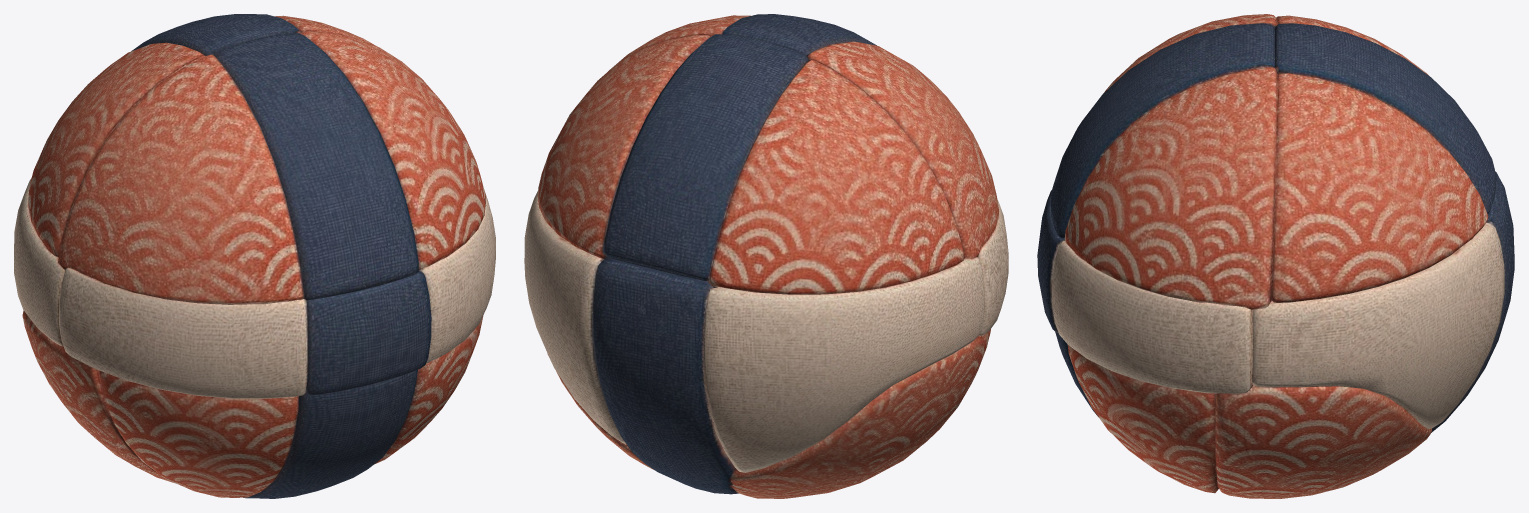
The model's file is ClothBall.fbx.
The picture shows the model from 3 angles, left to right: view 1: azimuth 30°, elevation 25°; view 2: azimuth 150°, elevation 25°; view 3: azimuth 270°, elevation 25°; orthographic projection.
Parts seen in each view (by area): view 1: tripo_node_e0e56d57; view 2: tripo_node_e0e56d57; view 3: tripo_node_e0e56d57.
Boxes of the visible parts, x1,y1,x2,y2 form: tripo_node_e0e56d57: [14, 14, 495, 498]; tripo_node_e0e56d57: [524, 14, 1008, 498]; tripo_node_e0e56d57: [1037, 14, 1514, 498].
Size of the model in its own units: 0.9995 by 0.9995 by 0.9888.
